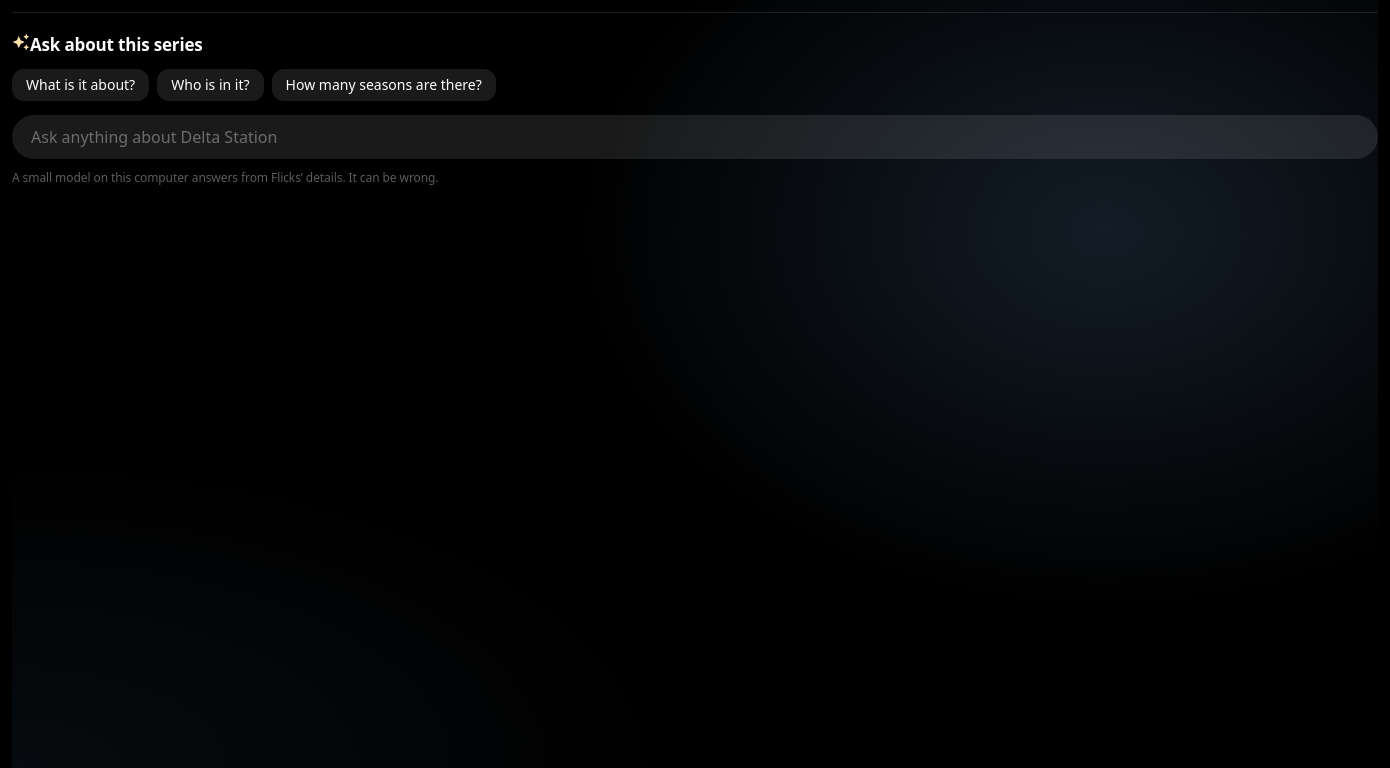
Test: a withdrawn answer is replaced by the reason, and series get their own suggestions
The width and height of the screenshot is (1390, 768).
Click the button "How many seasons are there?" at (384, 85), box [272, 69, 496, 101]
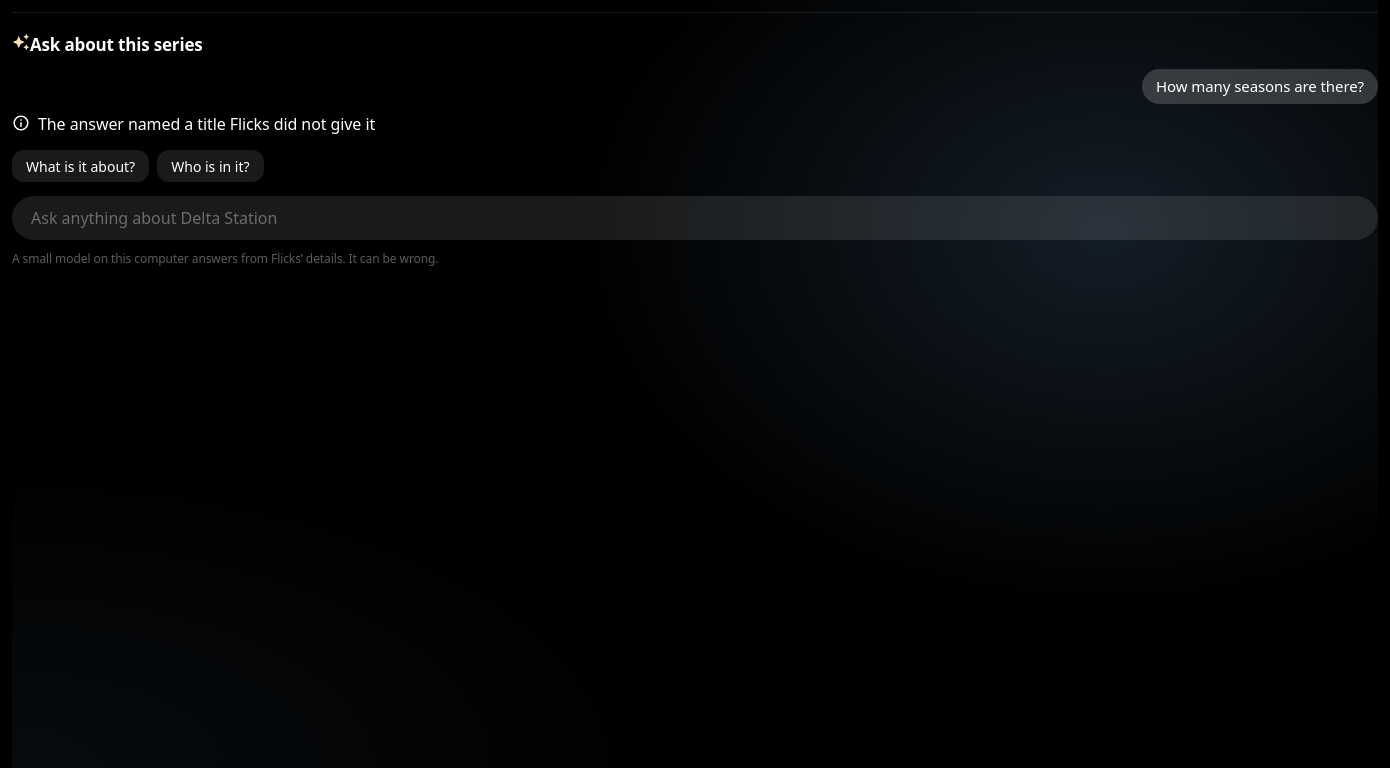
Result: the text "The answer named a title Flicks did not give it" is shown at [12, 113, 375, 135]
